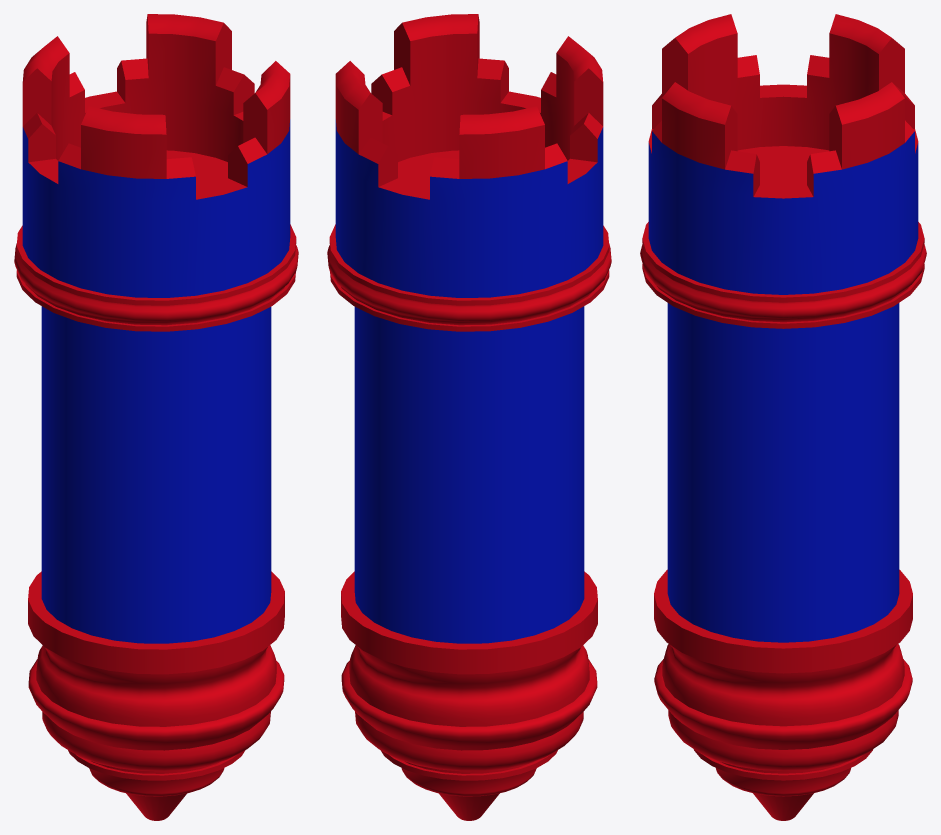
The model's file is Tower_mini.fbx.
3 renders of one model, left to right at view 1: azimuth 30°, elevation 25°; view 2: azimuth 150°, elevation 25°; view 3: azimuth 270°, elevation 25°, orthographic.
Visible parts, largest first — view 1: Group_2.005; view 2: Group_2.005; view 3: Group_2.005.
Boxes of the visible parts, x1,y1,x2,y2 form: Group_2.005: [14, 14, 298, 820]; Group_2.005: [327, 14, 611, 820]; Group_2.005: [640, 14, 926, 820].
Bounding box in the file's own units: 284 × 827 × 284.
